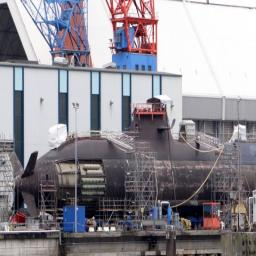submarine: (12, 110, 256, 216)
